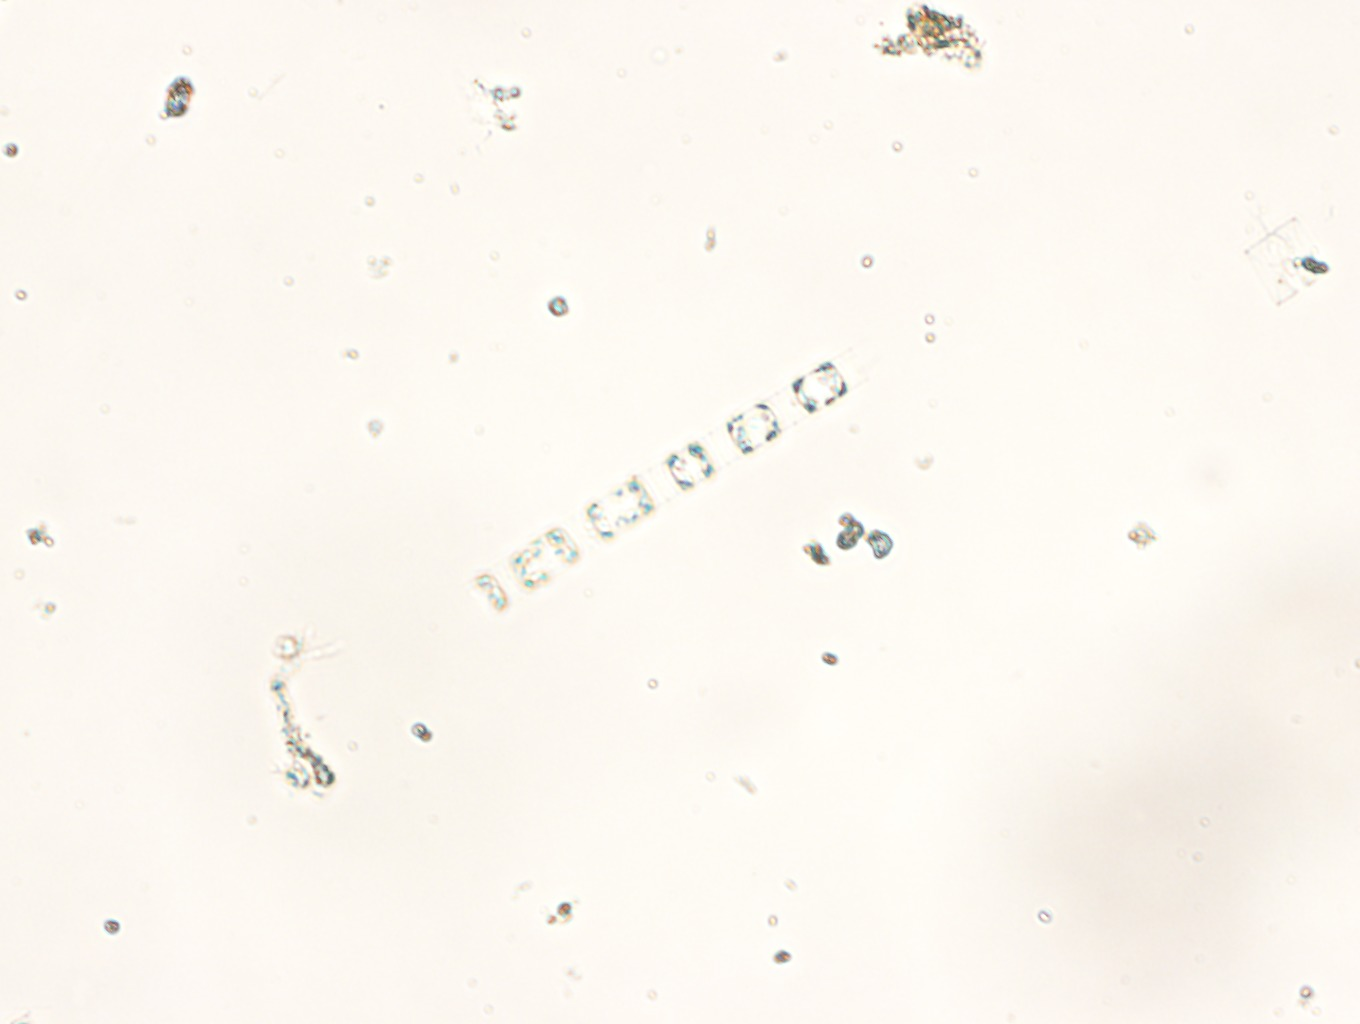skeletonema: (472, 355, 859, 614)
